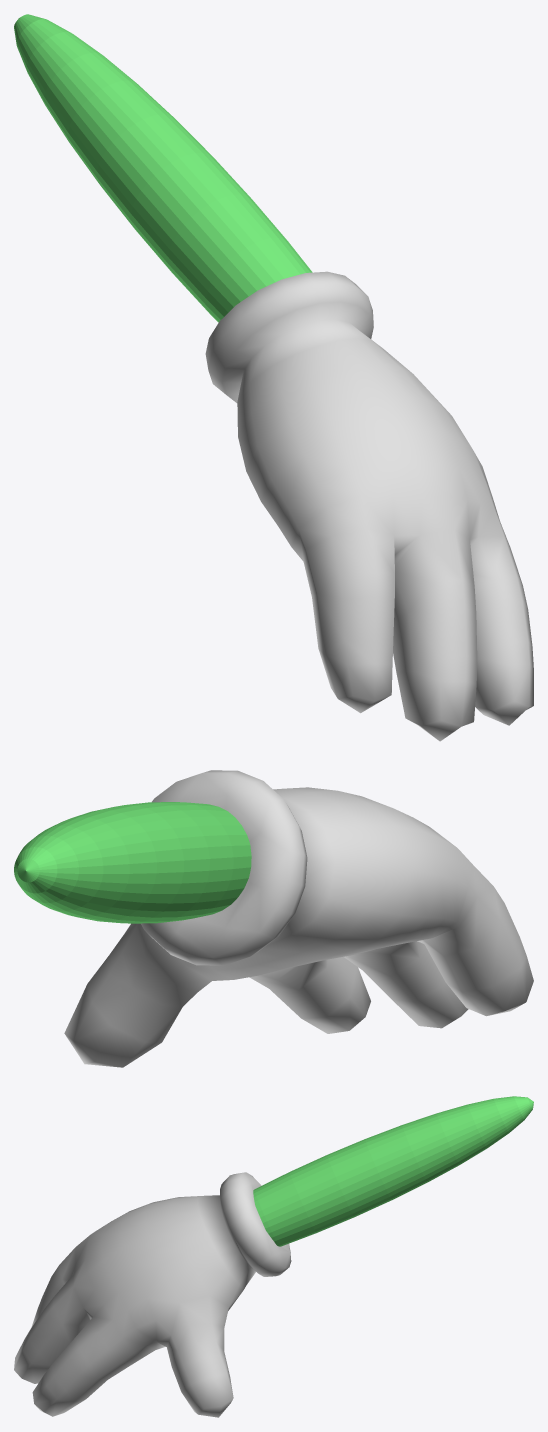
Rendered from Lhand_ns.glb.
3 renders of one model, top to bottom at view 1: azimuth 30°, elevation 25°; view 2: azimuth 150°, elevation 25°; view 3: azimuth 270°, elevation 25°, orthographic. The views are drawn at different scales.
Visible parts, largest first — view 1: Object001.001, Sphere; view 2: Object001.001, Sphere; view 3: Object001.001, Sphere.
Boxes of the visible parts, left/top/right/bottom form: Object001.001: left=205, top=271, right=533, bottom=741; Sphere: left=14, top=14, right=312, bottom=322; Object001.001: left=64, top=770, right=533, bottom=1067; Sphere: left=14, top=802, right=251, bottom=923; Object001.001: left=14, top=1172, right=291, bottom=1417; Sphere: left=253, top=1096, right=533, bottom=1246.
Size of the model in its own units: 0.3517 by 0.5298 by 0.8749.
